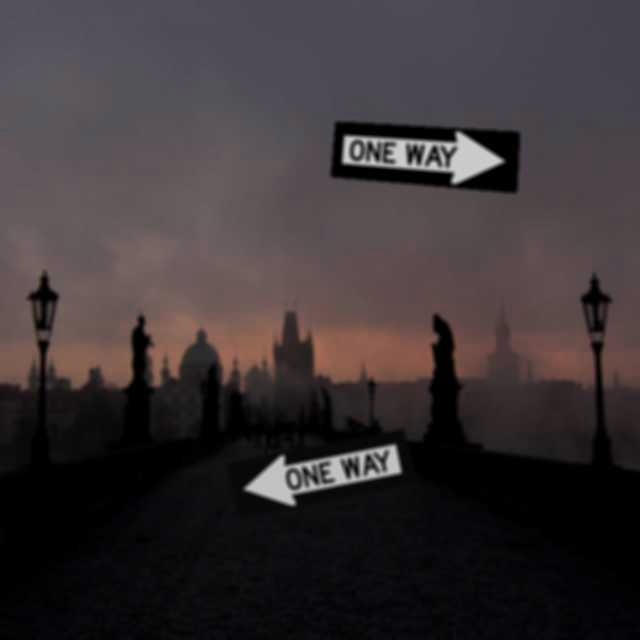ONE_WAY_ left: (226, 428, 416, 520)
ONE_WAY_ right: (330, 121, 520, 193)
